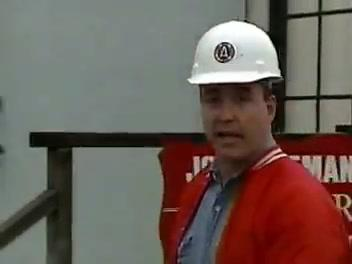helmet: (188, 21, 284, 91)
no -hi-vis jacket: (184, 163, 343, 264)
